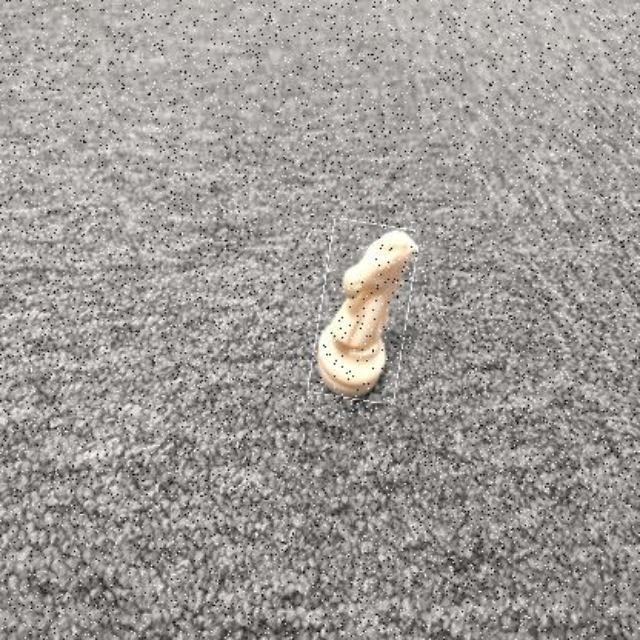white-knight: (315, 222, 415, 402)
